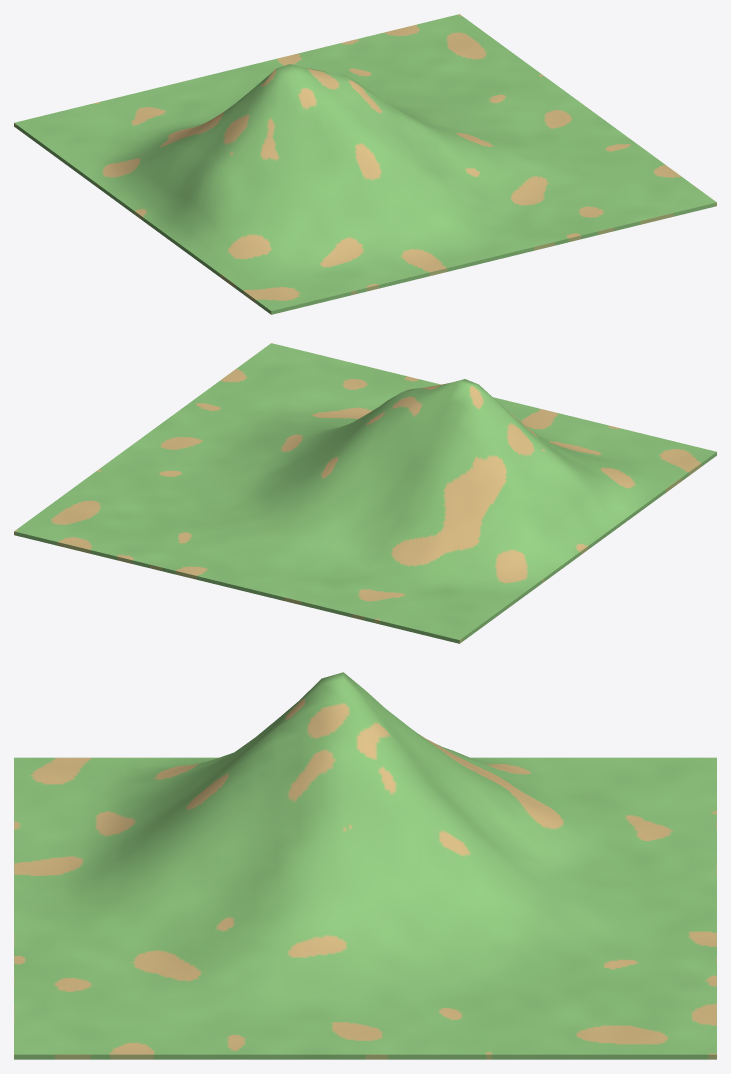
File: Grass_Hills_02.obj
3 views of the same model, one above another, from view 1: azimuth 30°, elevation 25°; view 2: azimuth 150°, elevation 25°; view 3: azimuth 270°, elevation 25° (orthographic). The views are drawn at different scales.
Bounding box in the file's own units: 10 × 2.76 × 10.
Materials: 1 (1 with a texture image).
